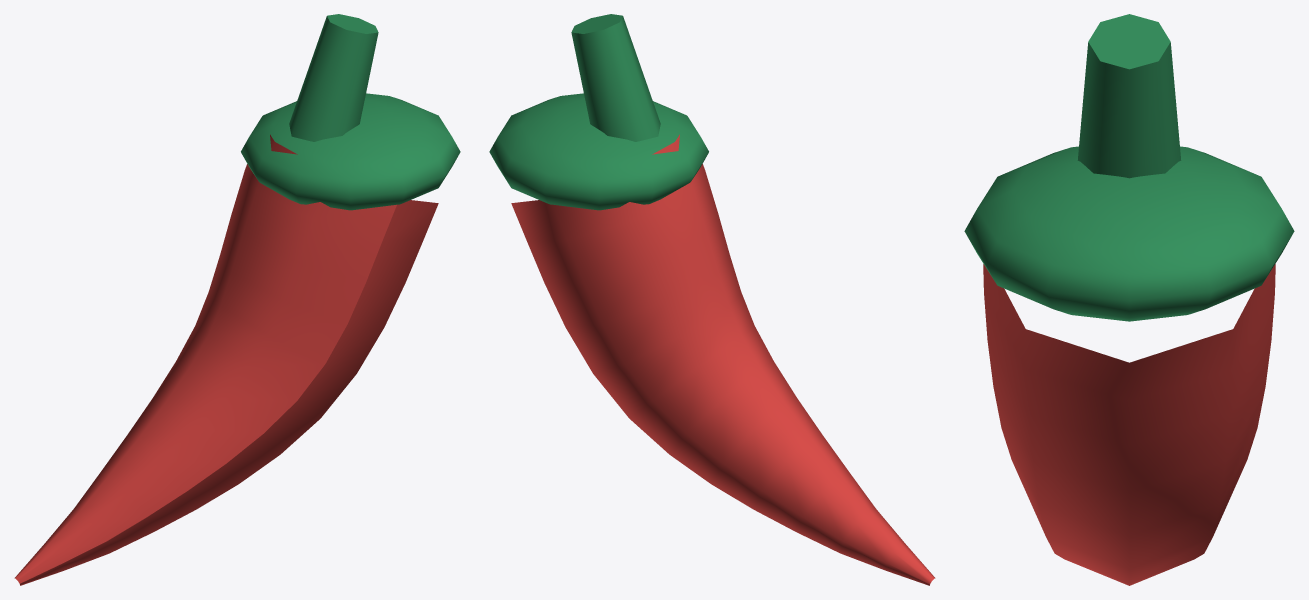
File: chili-pepper.glb
3 renders of one model, left to right at view 1: azimuth 30°, elevation 25°; view 2: azimuth 150°, elevation 25°; view 3: azimuth 270°, elevation 25°, orthographic. The views are drawn at different scales.
Visible parts, largest first — view 1: chili-pepper; view 2: chili-pepper; view 3: chili-pepper.
Boxes of the visible parts, bbox=[...] form: chili-pepper: bbox=[14, 14, 460, 585]; chili-pepper: bbox=[489, 14, 935, 585]; chili-pepper: bbox=[964, 14, 1294, 585].
Bounding box in the file's own units: 0.8132 × 0.8805 × 0.36.
